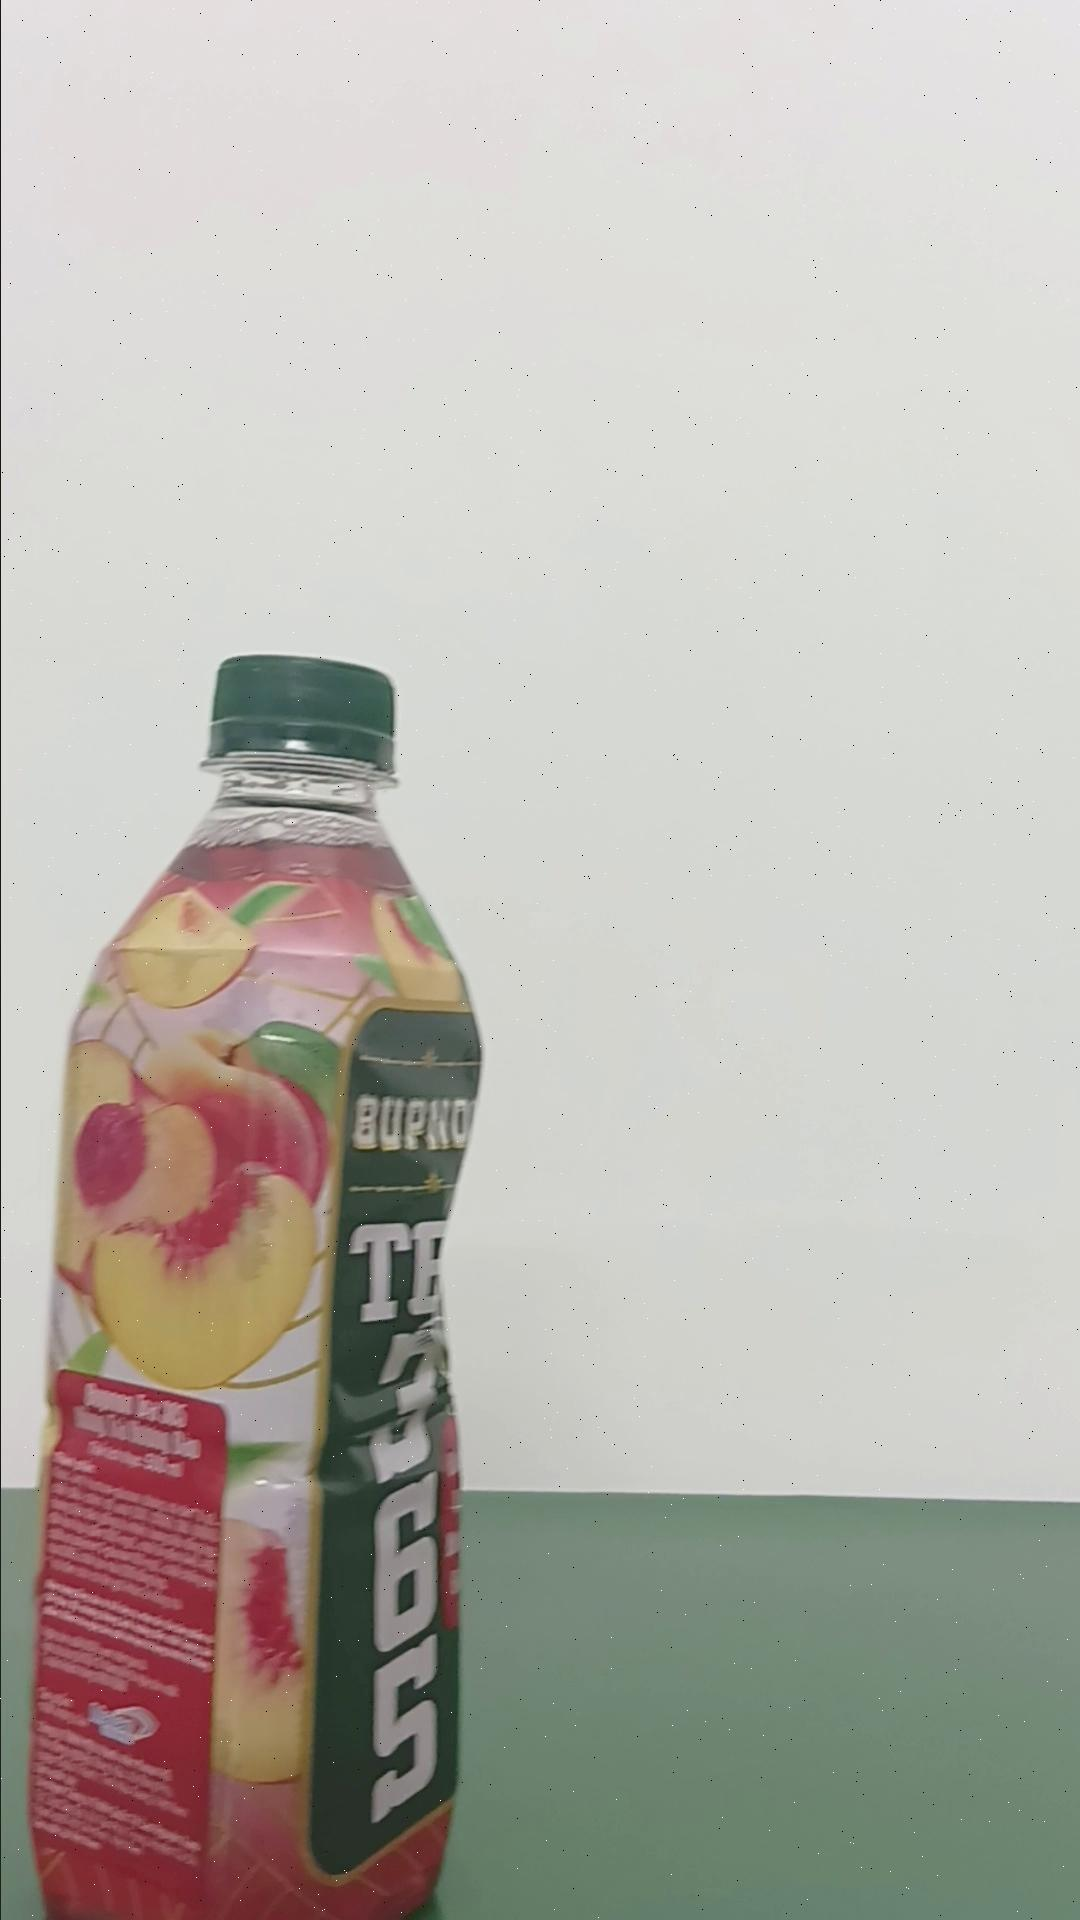loi meo sp: (28, 651, 485, 1915)
